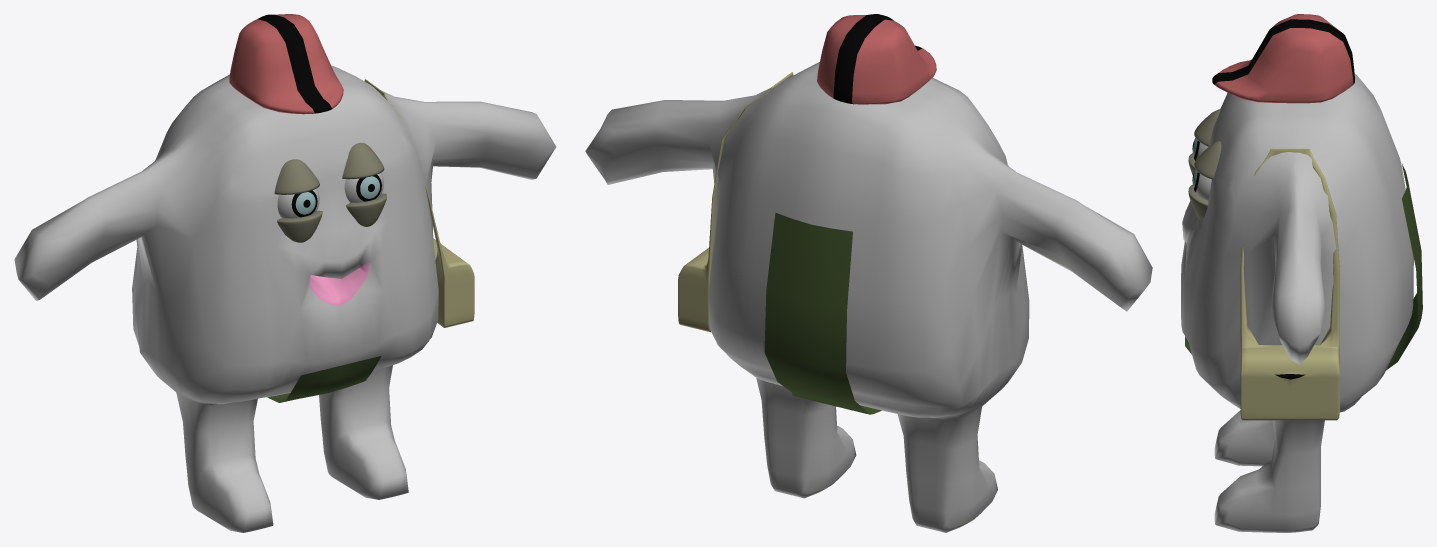
File: onigiri.fbx
3 renders of one model, left to right at view 1: azimuth 30°, elevation 25°; view 2: azimuth 150°, elevation 25°; view 3: azimuth 270°, elevation 25°, orthographic. The views are drawn at different scales.
Visible parts, largest first — view 1: Eye1_pCylinder1; view 2: Eye1_pCylinder1; view 3: Eye1_pCylinder1.
Part boxes in pixels (x1,y1,x2,y2): Eye1_pCylinder1: (14, 14, 556, 532); Eye1_pCylinder1: (585, 14, 1152, 532); Eye1_pCylinder1: (1181, 14, 1422, 532).
Size of the model in its own units: 9.64 by 8.1 by 3.8.
